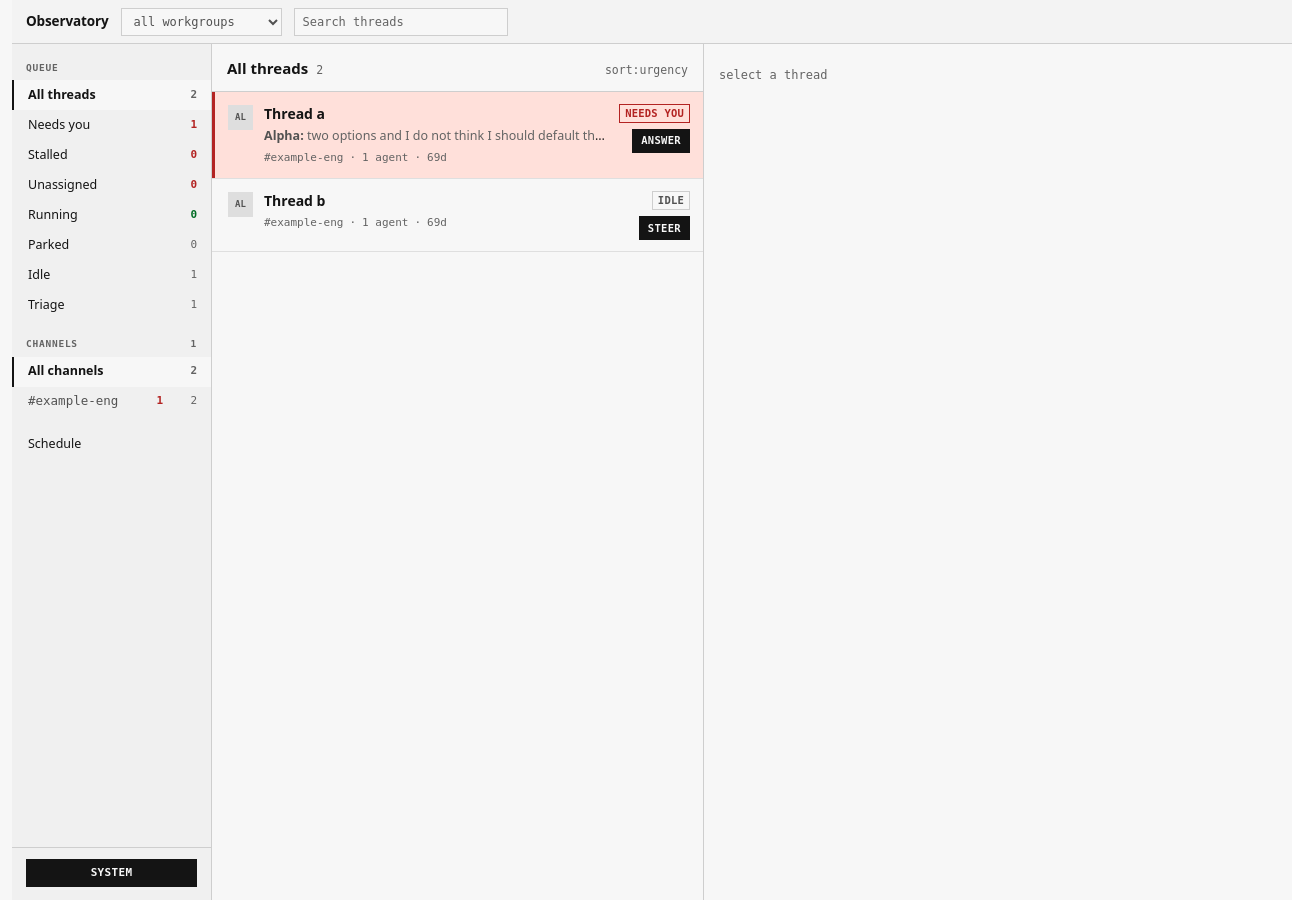
Test: the queue › filters to one lane and back
Check: the number of list items with class "ncc-row" is 2, box [212,92,703,179]; [212,179,703,252]
Click the button "Needs you 1" at (112, 125), box [12,110,211,140]
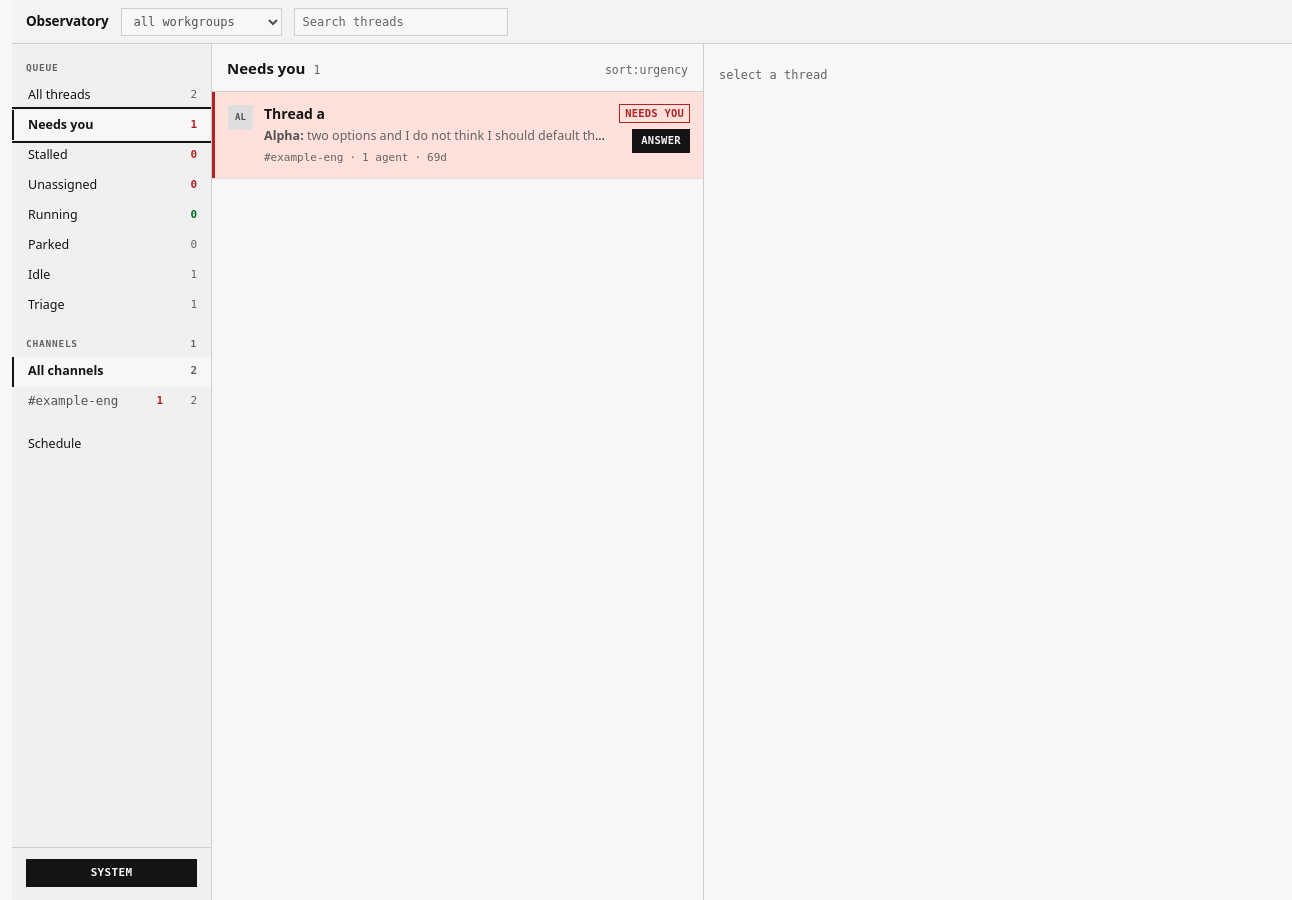
Check: the number of list items with class "ncc-row" is 1, box [212,92,703,179]
